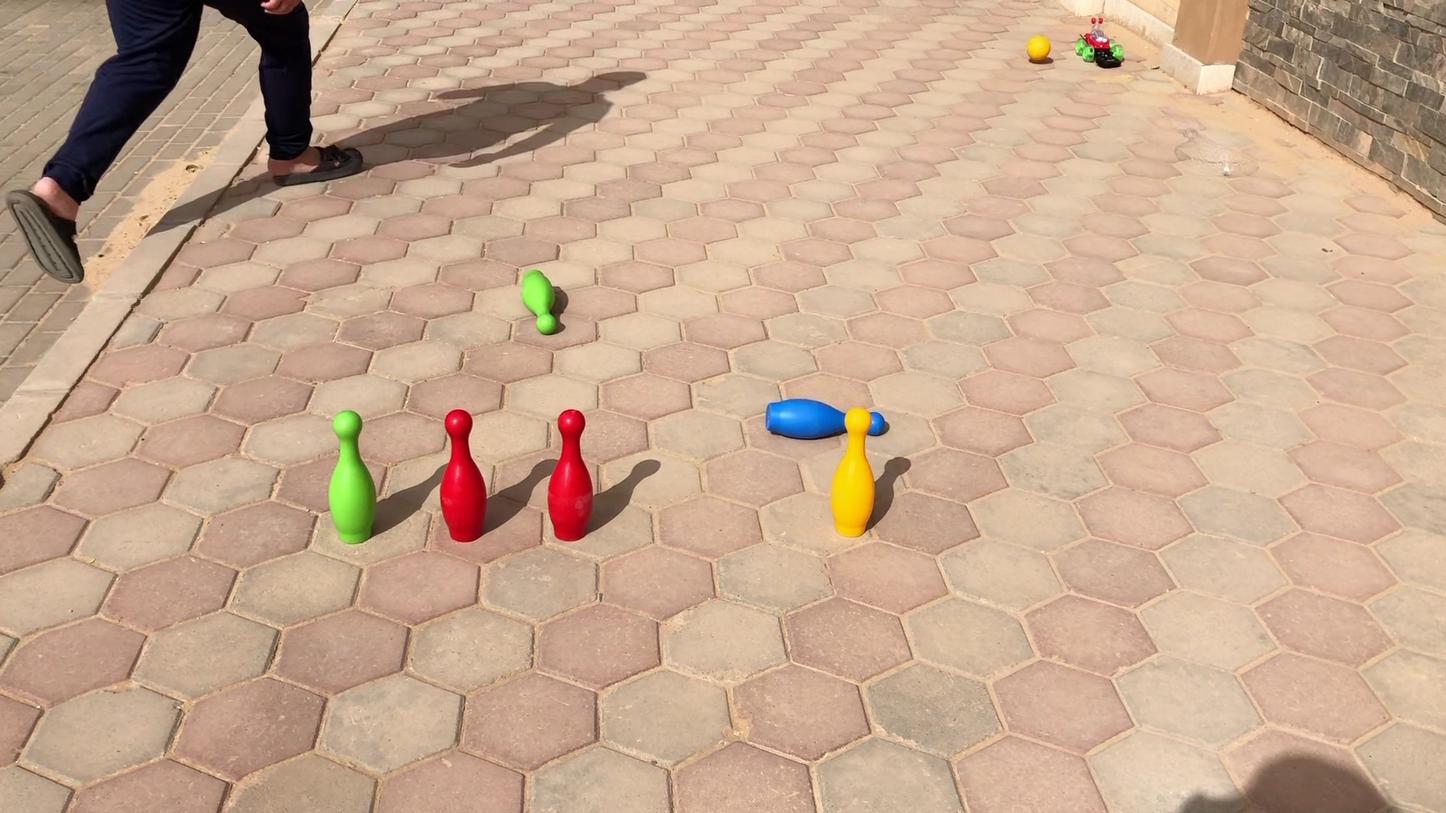bowling-pin: (743, 384, 905, 444), (438, 410, 487, 542), (328, 410, 376, 542), (546, 410, 592, 540), (830, 407, 877, 534), (516, 257, 562, 347)
